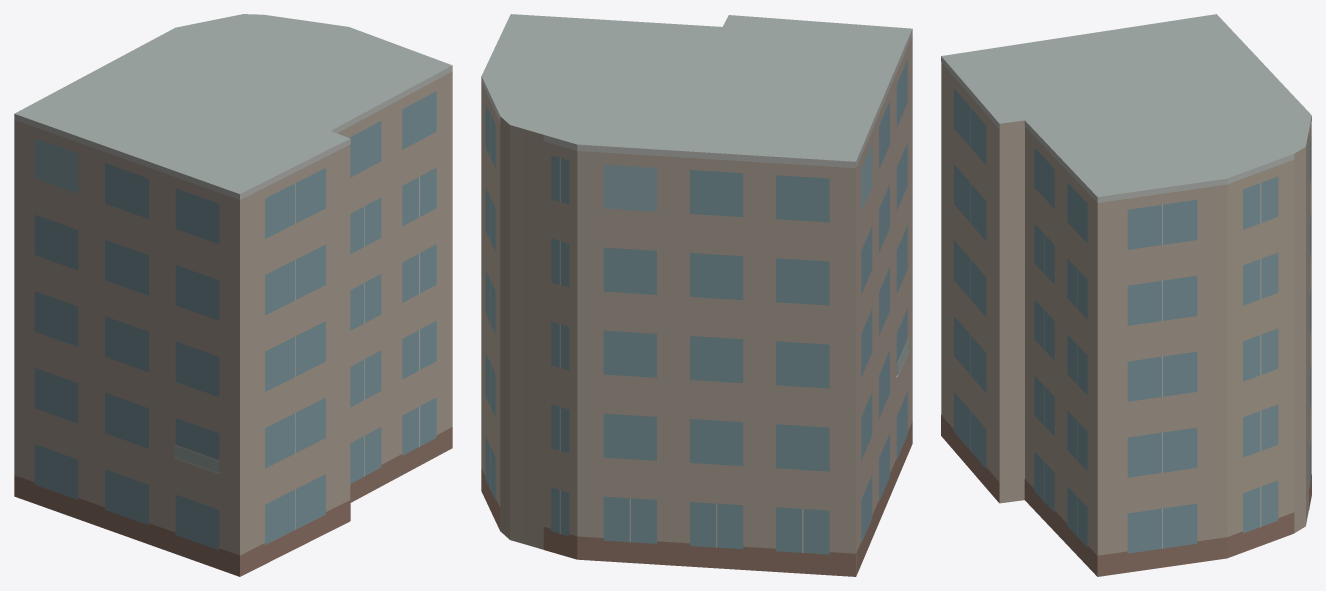
File: survey-upis-32848830.glb
The picture shows the model from 3 angles, left to right: view 1: azimuth 30°, elevation 25°; view 2: azimuth 150°, elevation 25°; view 3: azimuth 270°, elevation 25°; orthographic projection. The views are drawn at different scales.
Visible parts, largest first — view 1: survey-upis-32848830.tmp; view 2: survey-upis-32848830.tmp; view 3: survey-upis-32848830.tmp.
Boxes of the visible parts, left/top/right/bottom form: survey-upis-32848830.tmp: left=14, top=14, right=452, bottom=576; survey-upis-32848830.tmp: left=481, top=14, right=912, bottom=576; survey-upis-32848830.tmp: left=941, top=14, right=1311, bottom=576.
Size of the model in its own units: 16.36 by 15.8 by 13.99.
